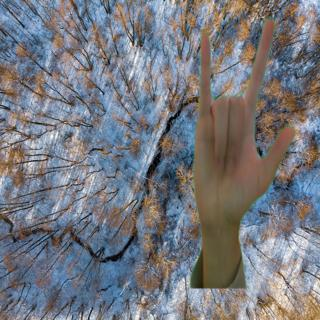ILY: (189, 16, 299, 233)
